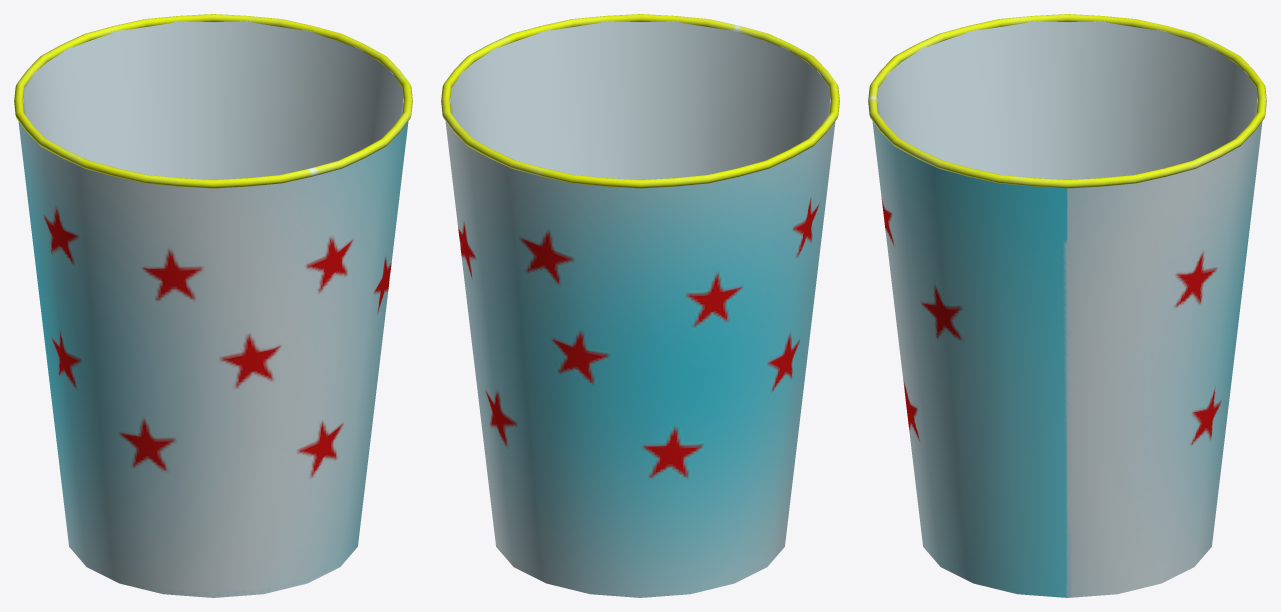
File: cylinder_val_amber_plaster_c0.dae
3 views of the same model, side by side, from view 1: azimuth 30°, elevation 25°; view 2: azimuth 150°, elevation 25°; view 3: azimuth 270°, elevation 25° (orthographic).
Parts seen in each view (by area): view 1: aws_Trash_01_visual; view 2: aws_Trash_01_visual; view 3: aws_Trash_01_visual.
Part boxes in pixels (x1,y1,x2,y2): aws_Trash_01_visual: (14,14,412,597); aws_Trash_01_visual: (441,14,839,597); aws_Trash_01_visual: (868,14,1266,597).
Bounding box in the file's own units: 28.5 × 28.28 × 34.34.
Materials: 1 (1 with a texture image).
